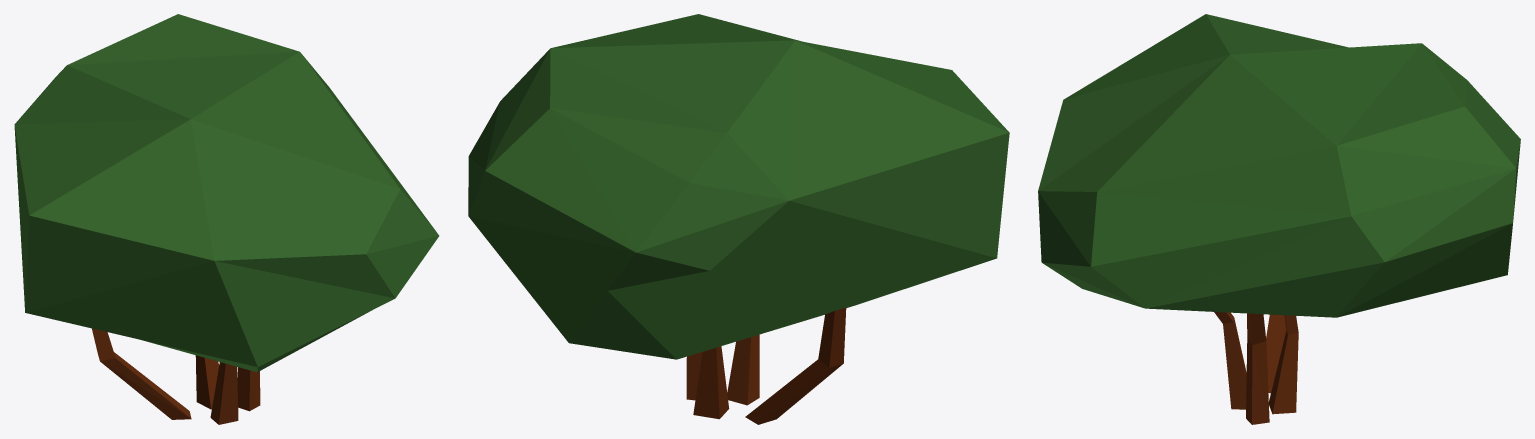
The model's file is Bush4_high.glb.
3 views of the same model, side by side, from view 1: azimuth 30°, elevation 25°; view 2: azimuth 150°, elevation 25°; view 3: azimuth 270°, elevation 25° (orthographic). The views are drawn at different scales.
Parts seen in each view (by area): view 1: Bush_temp_climate_008, Bush_temp_climate_008.001; view 2: Bush_temp_climate_008, Bush_temp_climate_008.001; view 3: Bush_temp_climate_008, Bush_temp_climate_008.001.
Part boxes in pixels (x1,y1,x2,y2): Bush_temp_climate_008: (14,14,439,372); Bush_temp_climate_008.001: (92,328,260,424); Bush_temp_climate_008: (468,14,1009,359); Bush_temp_climate_008.001: (686,307,846,424); Bush_temp_climate_008: (1038,14,1520,317); Bush_temp_climate_008.001: (1214,312,1298,424).
Size of the model in its own units: 1.04 by 0.8223 by 1.09.
